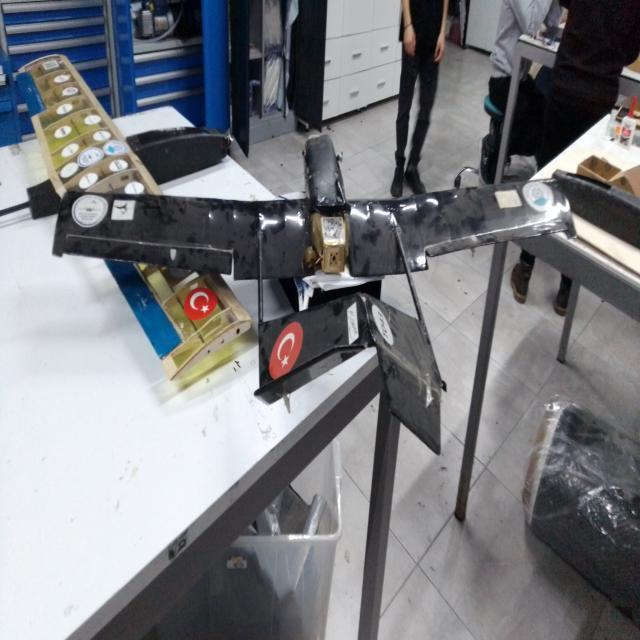UAV: (39, 82, 581, 480)
